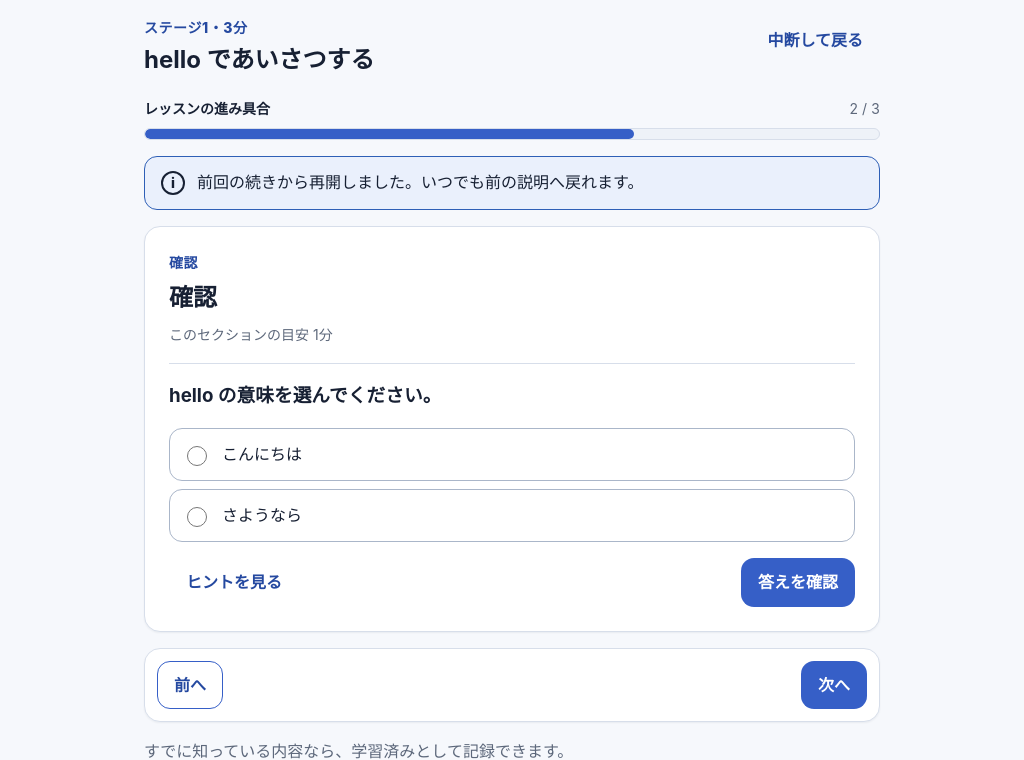
Test: レッスンレンダラー › Attempt保存失敗を表示し、成功するまで回答済みにしない
Check: the heading named "helloの意味を選んでください。" is shown, box [169,384,441,407]
Click the radio button labelled "こんにちは" at (197,456), box [187,446,207,466]
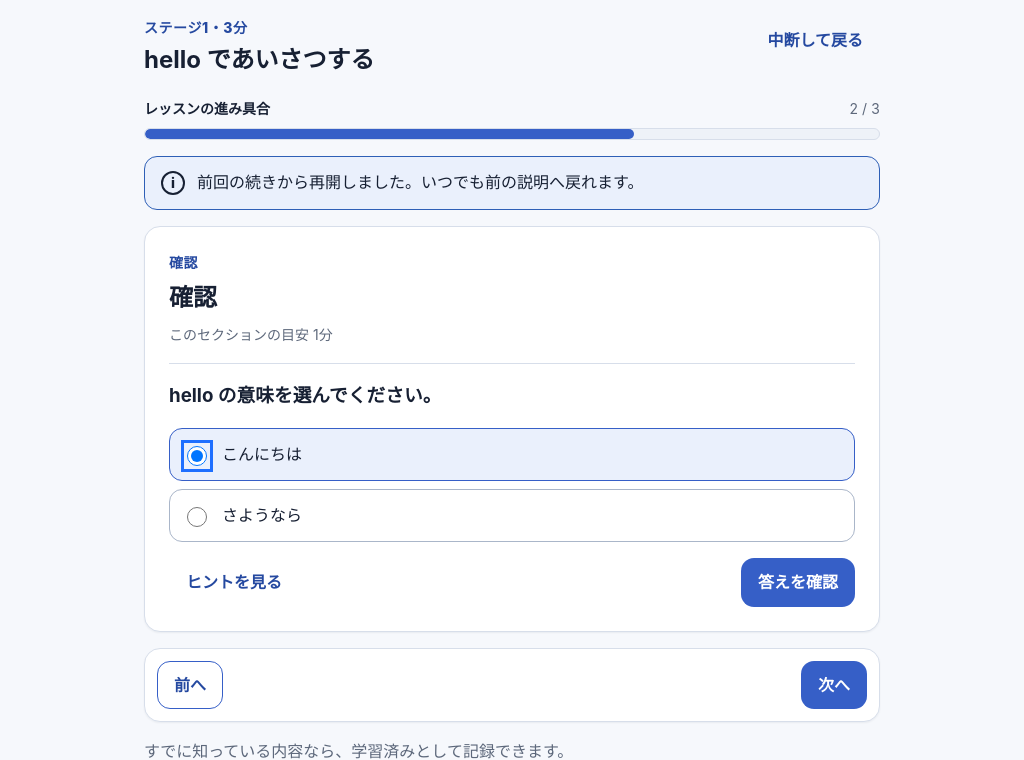
Click the button "答えを確認" at (798,582), box [741,558,855,607]
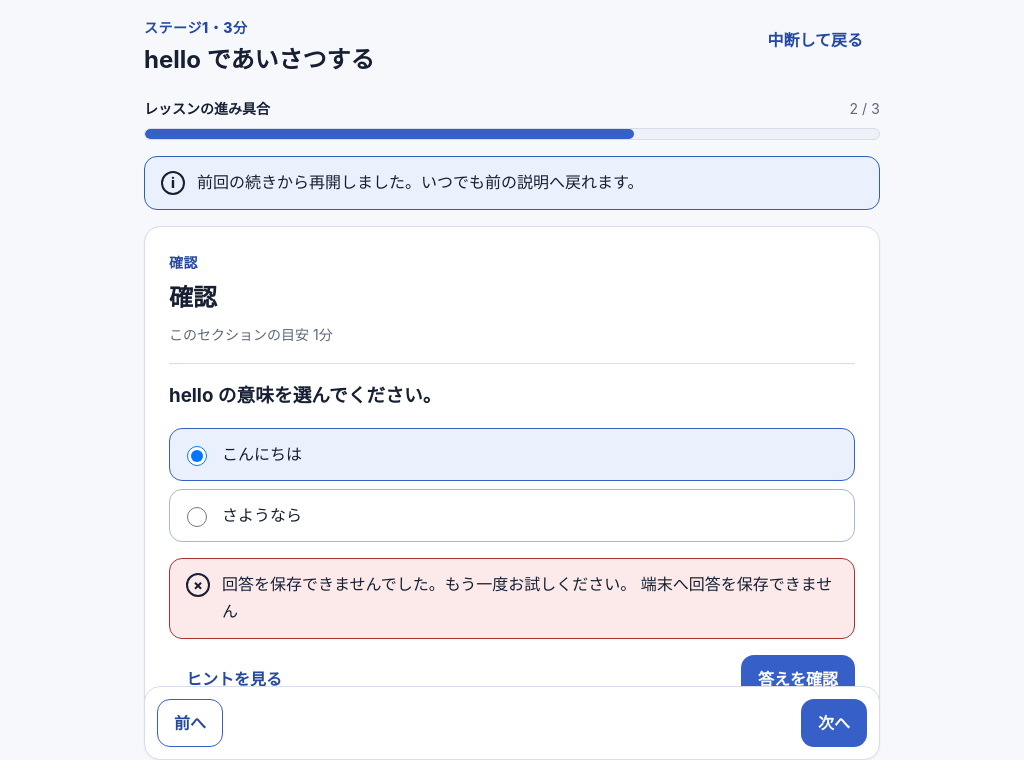
Check: the text "確認できました" is not shown
Check: the text "回答を保存できませんでした。もう一度お試しください。 端末へ回答を保存できません" is shown, box [222,571,838,626]
Click the button "次へ" at (834,723), box [801,699,867,747]
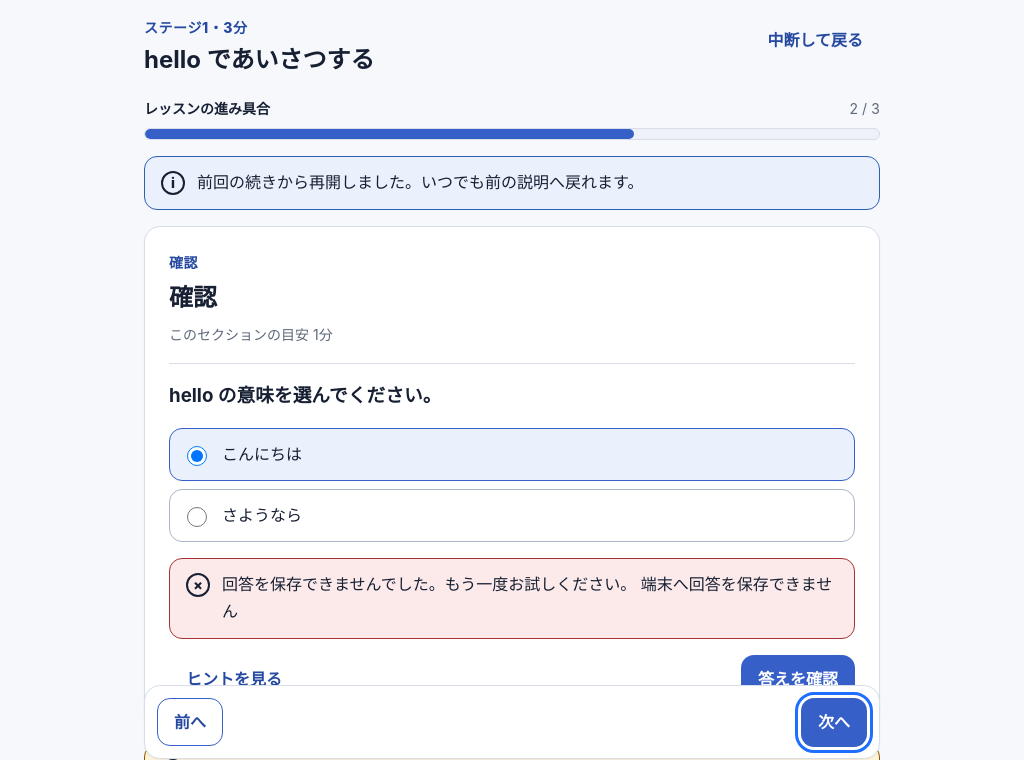
Click the button "答えを確認" at (798,679), box [741,654,855,703]
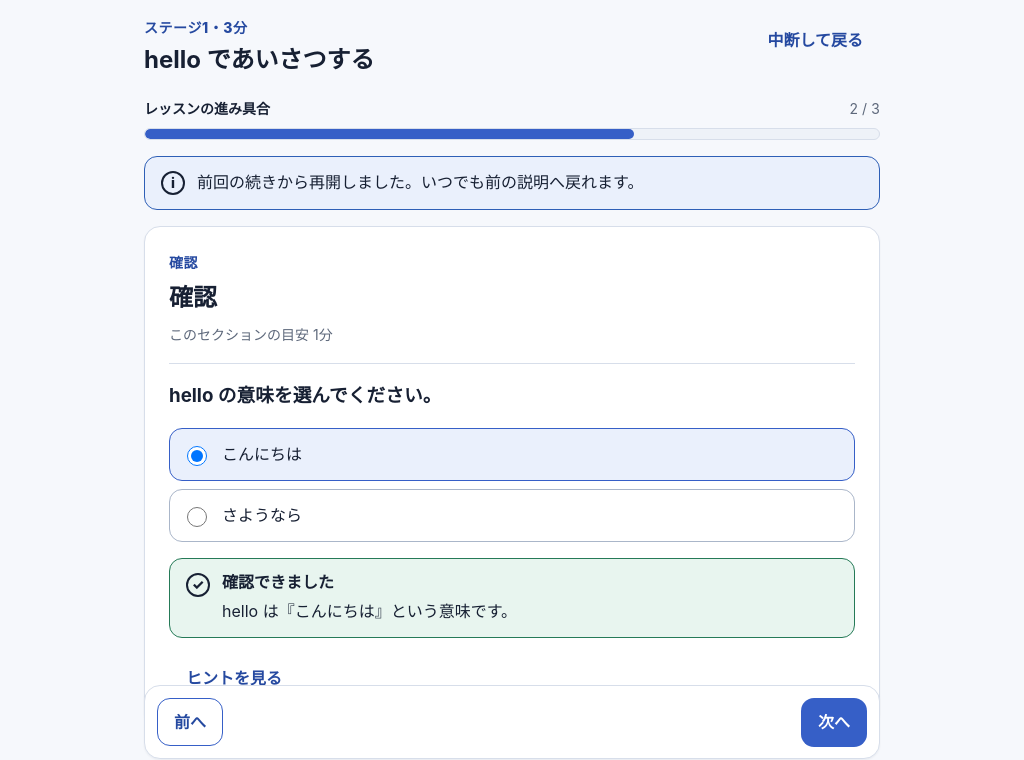
Check: the text "確認できました" is shown, box [222,572,334,592]
Click the button "次へ" at (834,723), box [801,699,867,747]
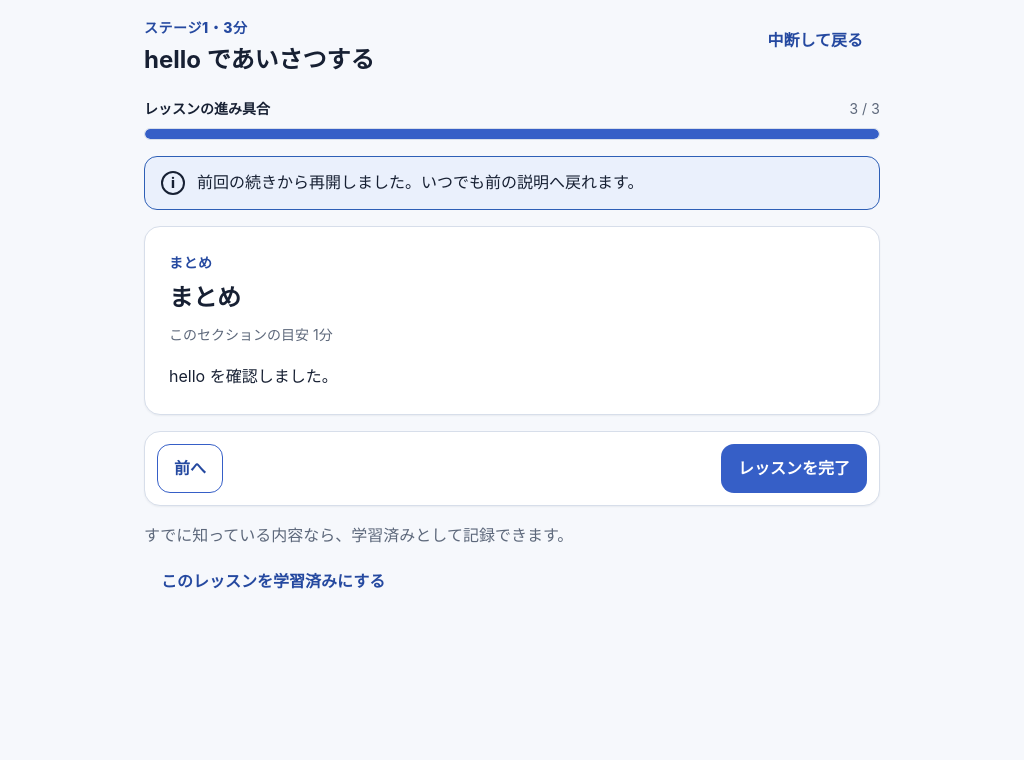
Check: the heading "まとめ" is shown, box [169,283,241,312]
